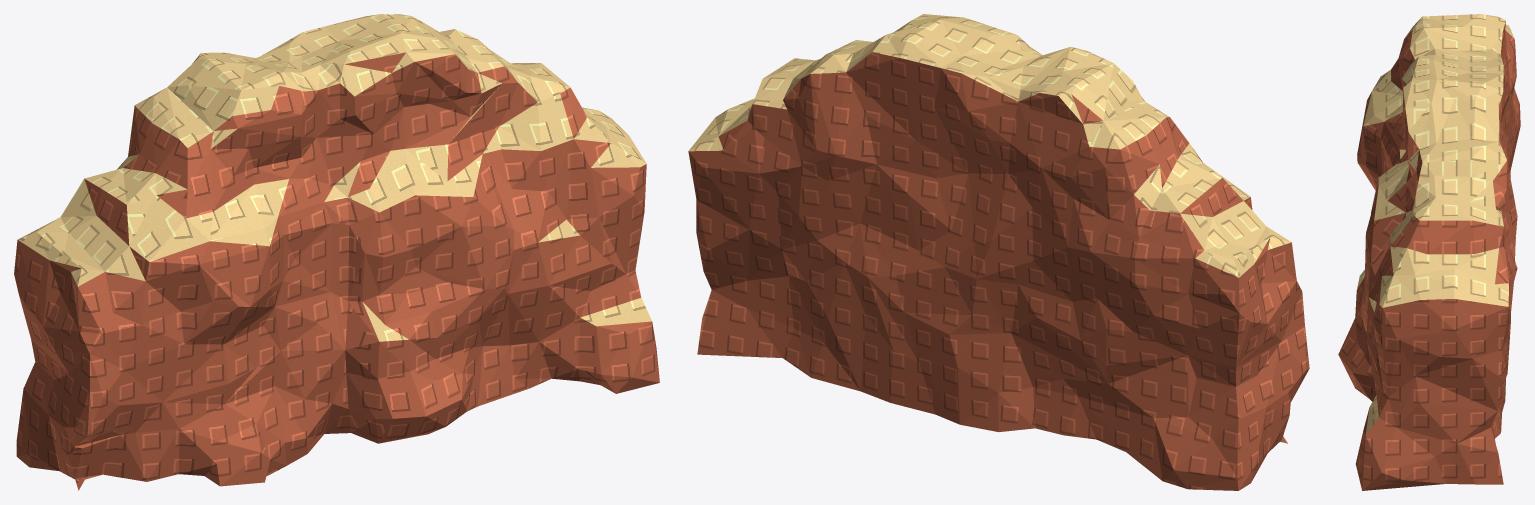
The model's file is DesertCliffWall.glb.
The picture shows the model from 3 angles, left to right: view 1: azimuth 30°, elevation 25°; view 2: azimuth 150°, elevation 25°; view 3: azimuth 270°, elevation 25°; orthographic projection. The views are drawn at different scales.
Visible parts, largest first — view 1: DesertCliffWall_Rock, DesertCliffWall_Top; view 2: DesertCliffWall_Rock, DesertCliffWall_Top; view 3: DesertCliffWall_Rock, DesertCliffWall_Top.
Part boxes in pixels (x1,y1,x2,y2): DesertCliffWall_Rock: (14, 52, 659, 490); DesertCliffWall_Top: (17, 14, 651, 479); DesertCliffWall_Rock: (688, 52, 1309, 490); DesertCliffWall_Top: (688, 14, 1291, 443); DesertCliffWall_Rock: (1338, 21, 1520, 490); DesertCliffWall_Top: (1357, 14, 1514, 434).
Size of the model in its own units: 20.41 by 12.8 by 6.46.
Materials: 2 (2 with a texture image).
